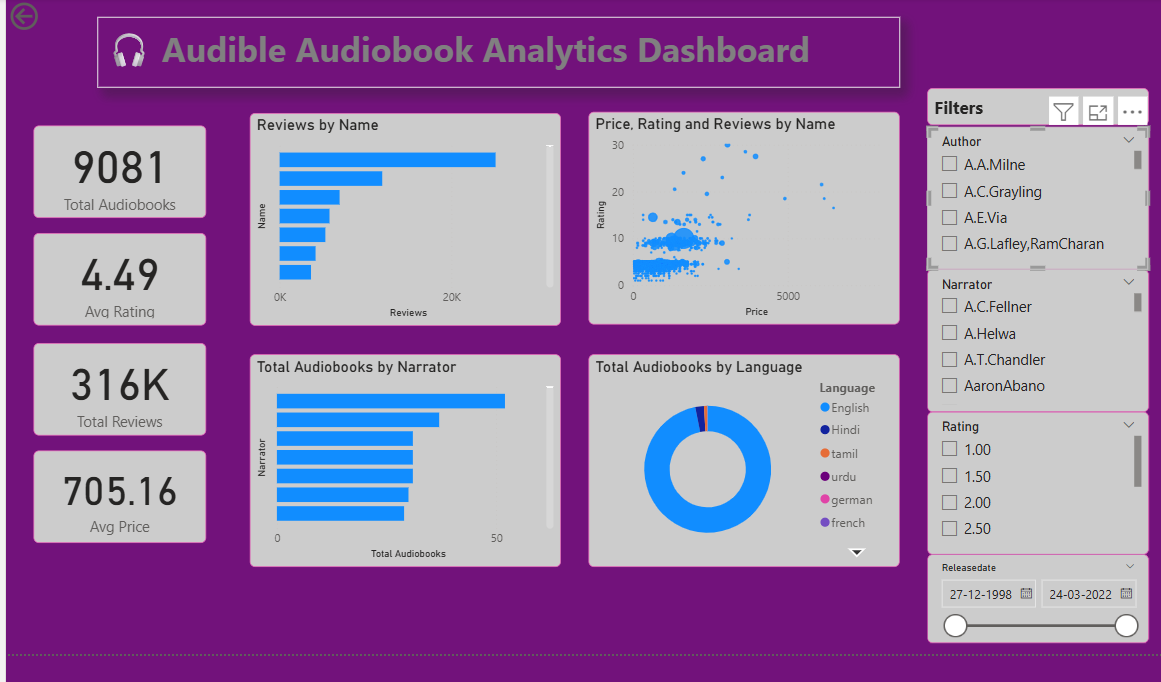

The dashboard page shown, as its layout file describes it:
{"tool":"powerbi","page":{"name":"Visualization","canvas":[1280,720],"ordinal":0},"visuals":[{"type":"card","fields":{"Values":["audible_uncleaned.Total Audiobooks"]},"box":[30.2,140,189.4,101.5],"z":0},{"type":"card","fields":{"Values":["audible_uncleaned.Avg Rating"]},"box":[30.2,258,189.4,101.5],"z":1000},{"type":"card","fields":{"Values":["audible_uncleaned.Total Reviews"]},"box":[30.2,378.7,189.4,101.5],"z":2000},{"type":"card","fields":{"Values":["audible_uncleaned.Avg Price"]},"box":[30.2,496.7,189.4,101.5],"z":3000},{"type":"barChart","fields":{"Category":["audible_uncleaned.Name"],"Y":["audible_uncleaned.Reviews"]},"box":[267.6,126.2,341.7,233.3],"z":4000},{"type":"scatterChart","fields":{"X":["audible_uncleaned.Price"],"Y":["audible_uncleaned.Rating"],"Size":["audible_uncleaned.Reviews"],"Category":["audible_uncleaned.Name"]},"box":[639.5,124.9,341.7,233.3],"z":5000},{"type":"barChart","fields":{"Category":["audible_uncleaned.Narrator"],"Y":["audible_uncleaned.Total Audiobooks"]},"box":[267.6,391.1,341.7,233.3],"z":6000},{"type":"donutChart","fields":{"Category":["audible_uncleaned.Language"],"Y":["audible_uncleaned.Total Audiobooks"]},"box":[639.5,391.1,341.7,233.3],"z":7000},{"type":"slicer","fields":{"Values":["audible_uncleaned.Author"]},"box":[1011.3,141.3,242.9,156.4],"z":8000},{"type":"slicer","fields":{"Values":["audible_uncleaned.Narrator"]},"box":[1011.3,297.8,242.9,156.4],"z":9000},{"type":"slicer","fields":{"Values":["audible_uncleaned.Rating"]},"box":[1011.3,454.2,242.9,156.4],"z":10000},{"type":"slicer","fields":{"Values":["audible_uncleaned.Releasedate"]},"box":[1011.3,610.6,242.9,97.4],"z":11000},{"type":"textbox","box":[1011.3,98.8,242.9,41.2],"z":12000},{"type":"textbox","box":[100.2,20.6,881,78.2],"z":13000},{"type":"actionButton","box":[0,0,100,40],"z":14000}]}

Visuals, with their boxes on the page's 1280x720 design canvas (x1, y1, x2, y2). These are canvas units, not pixel positions in the 1161x682 screenshot, which may show the page scaled, cropped or inside an application window:
card - audible_uncleaned.Total Audiobooks: box(30, 140, 220, 242)
card - audible_uncleaned.Avg Rating: box(30, 258, 220, 360)
card - audible_uncleaned.Total Reviews: box(30, 379, 220, 480)
card - audible_uncleaned.Avg Price: box(30, 497, 220, 598)
barChart - audible_uncleaned.Name x audible_uncleaned.Reviews: box(268, 126, 609, 360)
scatterChart - audible_uncleaned.Price x audible_uncleaned.Rating: box(640, 125, 981, 358)
barChart - audible_uncleaned.Narrator x audible_uncleaned.Total Audiobooks: box(268, 391, 609, 624)
donutChart - audible_uncleaned.Language x audible_uncleaned.Total Audiobooks: box(640, 391, 981, 624)
slicer - audible_uncleaned.Author: box(1011, 141, 1254, 298)
slicer - audible_uncleaned.Narrator: box(1011, 298, 1254, 454)
slicer - audible_uncleaned.Rating: box(1011, 454, 1254, 611)
slicer - audible_uncleaned.Releasedate: box(1011, 611, 1254, 708)
textbox: box(1011, 99, 1254, 140)
textbox: box(100, 21, 981, 99)
actionButton: box(0, 0, 100, 40)
